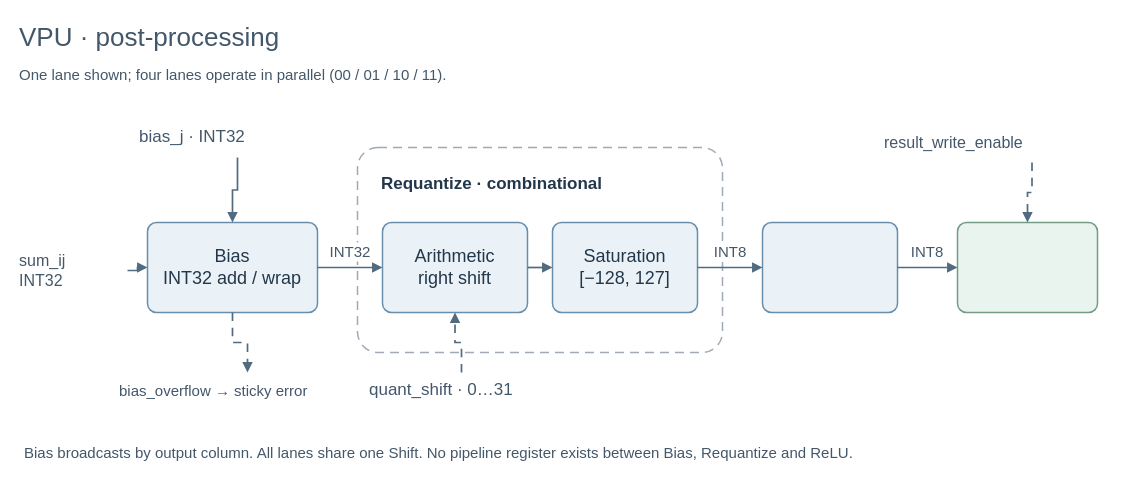
Some shapes in this 1129 by 484 pixel diagram are drawn without their labels. The shapes that lost their labels are listed below. From the top down, each one's centre as x and y in pixels, then its label:
At (829,267): "ReLU max(0, x)".
At (1027,267): "Result register".
